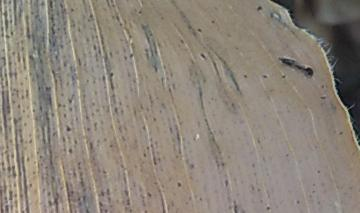tarspot: (276, 56, 314, 79), (114, 15, 123, 28), (101, 74, 108, 90), (49, 22, 57, 36), (67, 93, 76, 105), (151, 60, 159, 73), (63, 123, 73, 133), (124, 197, 132, 208), (223, 177, 230, 189), (188, 161, 196, 171), (198, 52, 207, 60), (255, 4, 263, 13), (145, 190, 154, 198), (24, 154, 32, 163), (123, 188, 131, 197), (260, 73, 270, 80), (232, 203, 239, 213), (76, 56, 82, 67), (294, 198, 302, 206), (175, 180, 183, 188), (101, 168, 109, 176), (158, 14, 166, 22), (47, 1, 54, 10), (43, 85, 52, 92), (58, 91, 67, 98), (27, 53, 34, 62), (88, 141, 94, 151), (112, 105, 118, 115), (256, 135, 262, 145), (337, 130, 345, 137), (315, 168, 322, 176), (67, 147, 74, 155), (88, 12, 95, 20), (8, 30, 16, 37), (84, 206, 92, 213), (127, 32, 134, 40), (97, 199, 104, 207), (38, 102, 43, 113), (318, 95, 327, 101), (62, 111, 68, 120), (56, 101, 62, 110), (107, 50, 113, 59), (242, 73, 249, 80), (140, 124, 147, 131), (255, 186, 262, 193), (10, 49, 17, 56), (136, 9, 144, 15), (91, 43, 97, 51), (178, 38, 186, 44), (85, 125, 91, 133), (151, 115, 157, 123), (85, 77, 91, 85), (250, 161, 256, 169), (27, 181, 33, 189), (99, 189, 105, 197), (49, 13, 54, 22), (196, 27, 202, 34), (284, 151, 290, 158), (128, 52, 134, 59), (69, 6, 75, 13), (220, 161, 226, 168), (198, 196, 204, 203), (280, 73, 286, 79), (265, 205, 271, 211), (209, 19, 216, 24), (320, 83, 325, 90), (109, 71, 114, 78), (142, 151, 147, 158), (145, 145, 150, 151), (108, 143, 114, 148), (142, 208, 148, 213), (109, 1, 115, 5)
